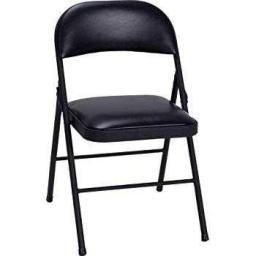Chair: (46, 0, 210, 254)
